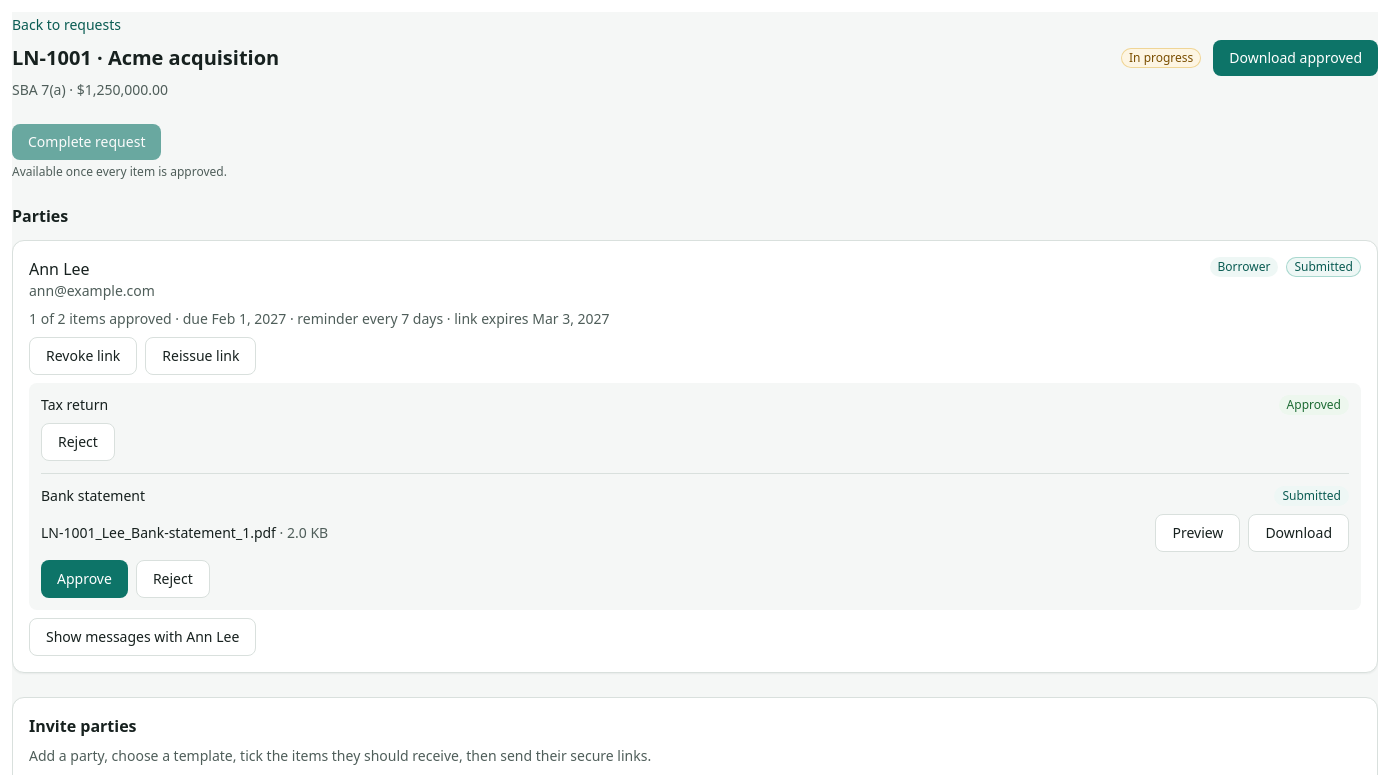
Scenario: RequestDetailPage › reissues a link and says the old one stopped working
Click the button with aria-label "Reissue link for Ann Lee".
click(201, 356)  # box [145,337,256,375]
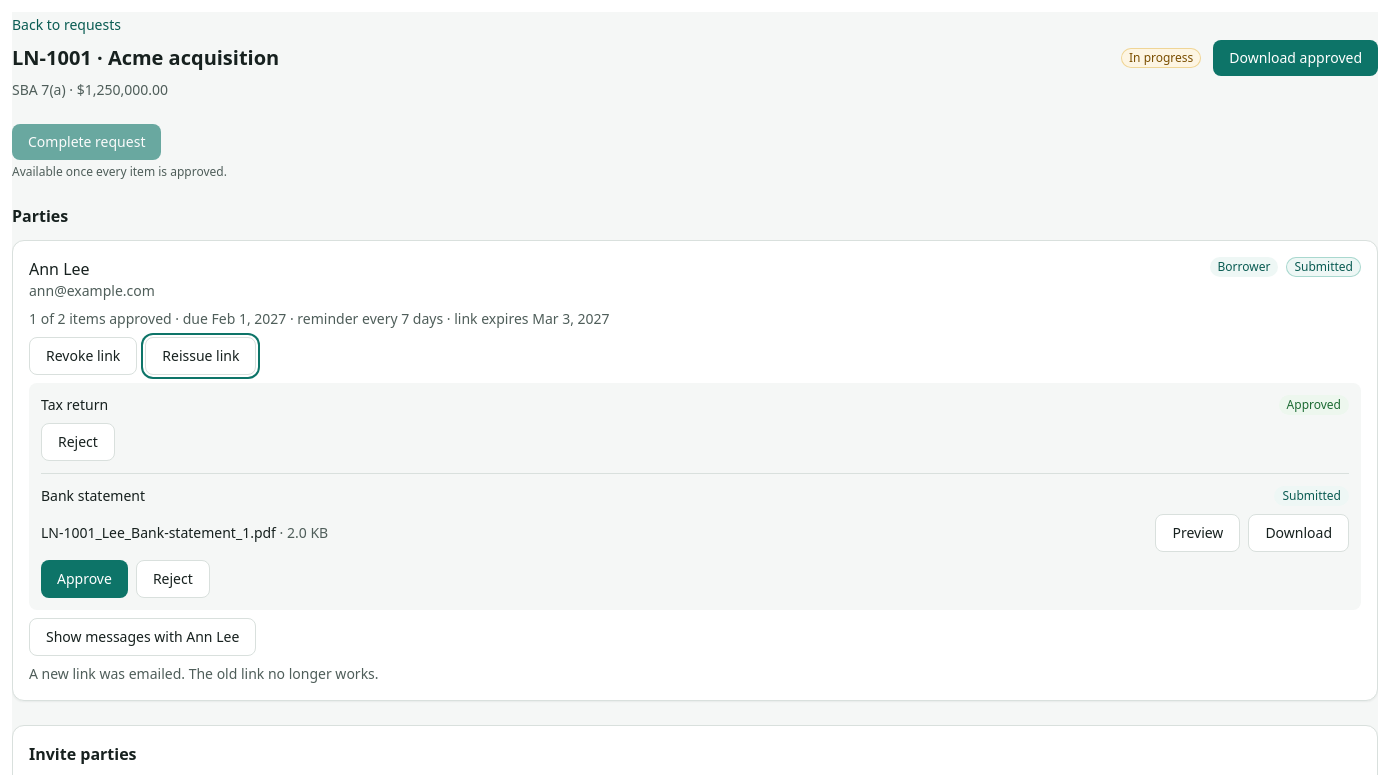
Expected: the text "A new link was emailed. The old link no longer works." is shown, [29,664,379,683]
